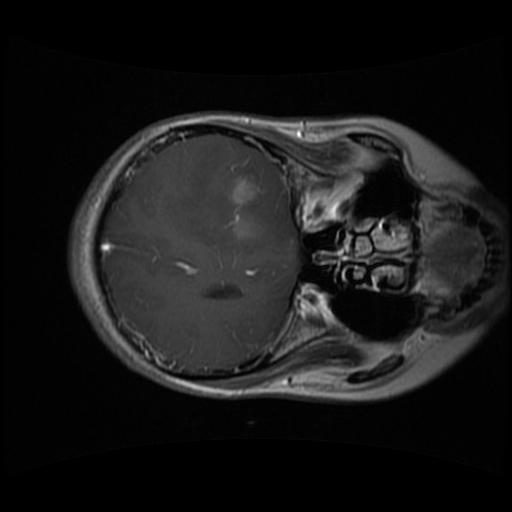glioma: (216, 158, 273, 256)
